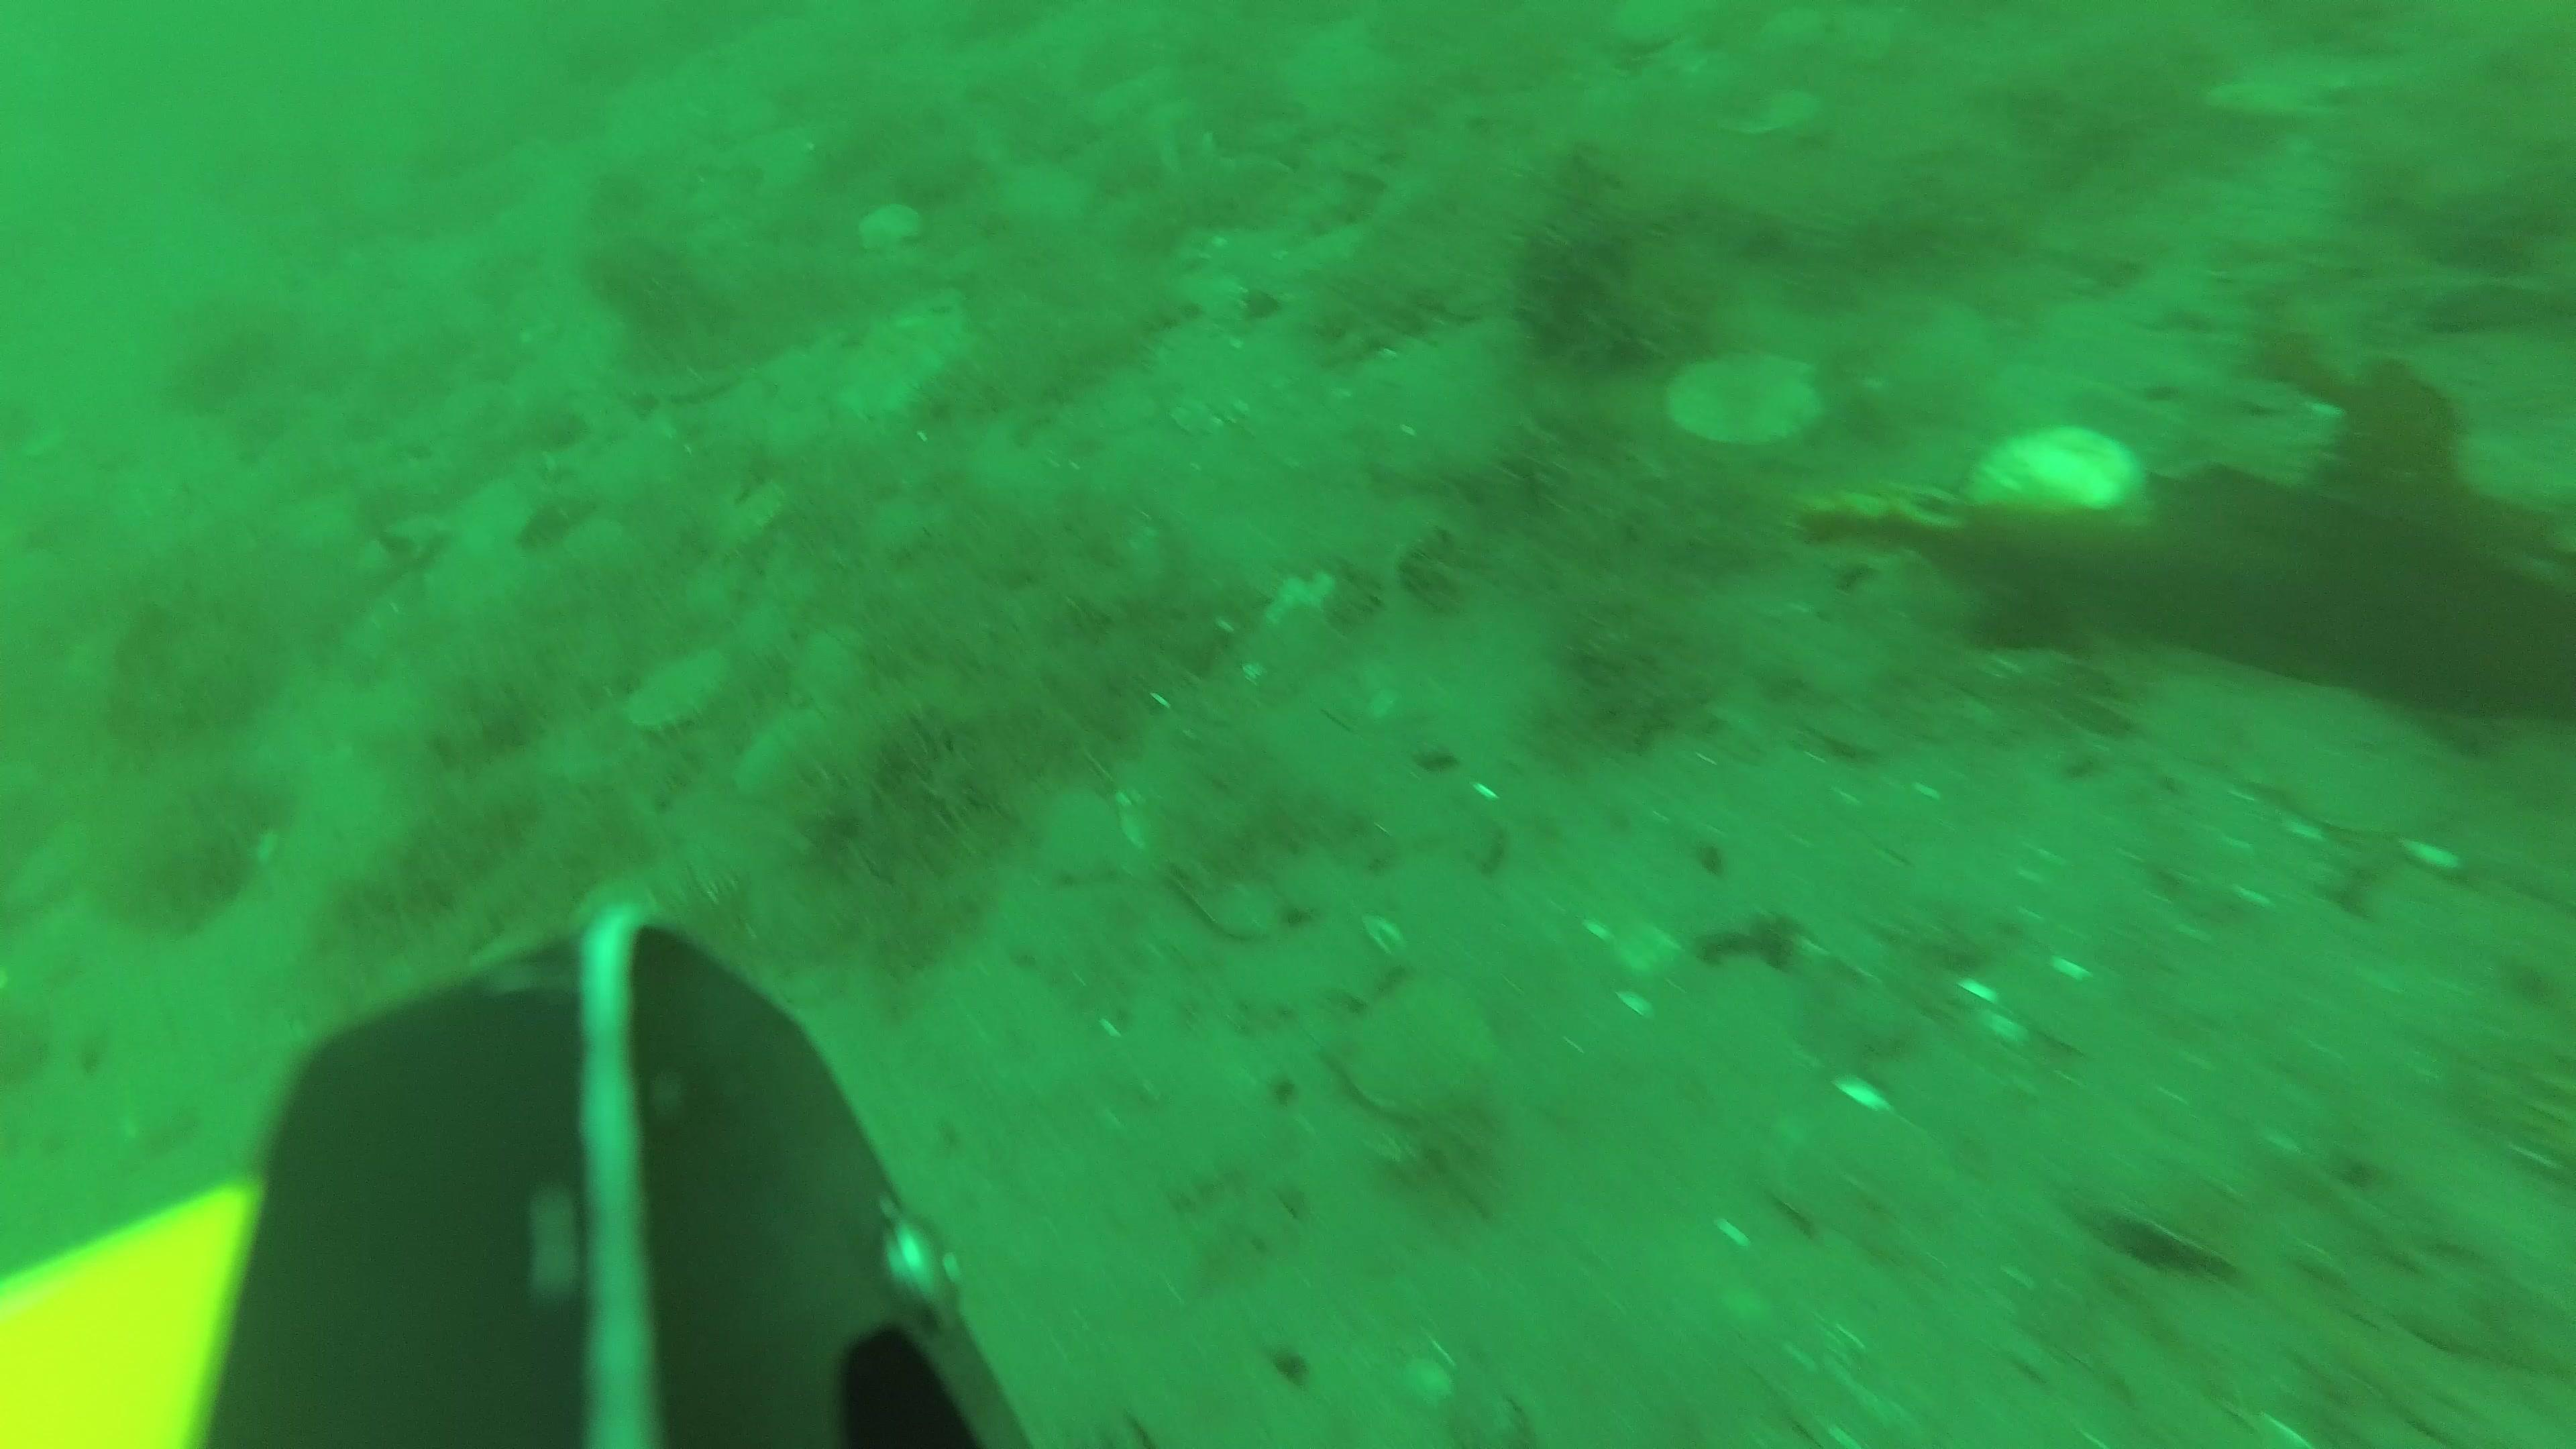scallop: (1775, 1086, 1953, 1249), (1345, 966, 1507, 1120), (1966, 419, 2146, 529), (1661, 343, 1826, 456), (724, 706, 839, 798), (630, 648, 734, 741), (856, 203, 929, 251)
